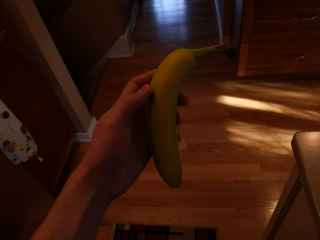banana: (147, 41, 239, 192)
